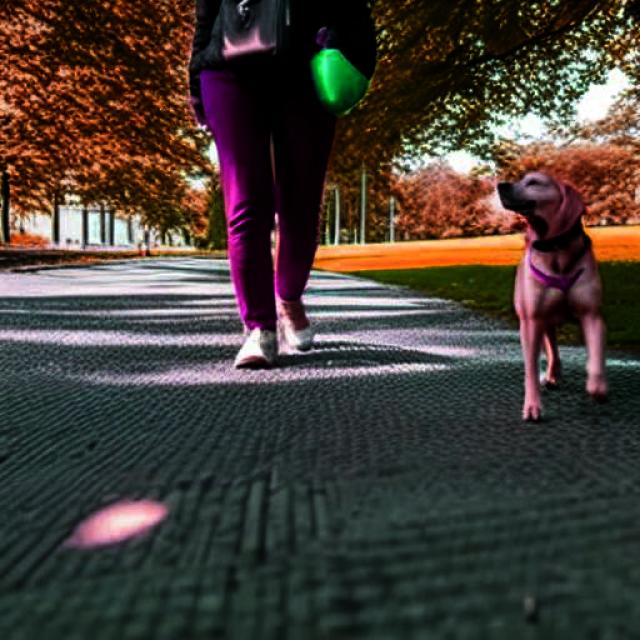Unleashed_Dog: (200, 64, 609, 422)
